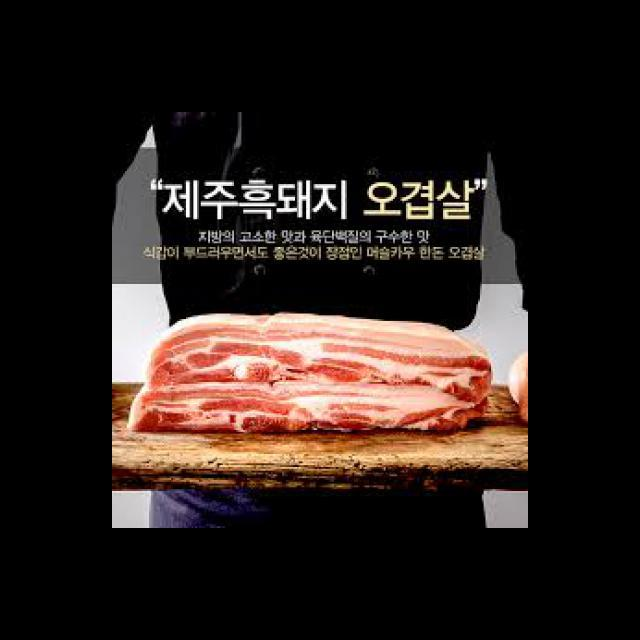pork: (145, 314, 488, 439)
